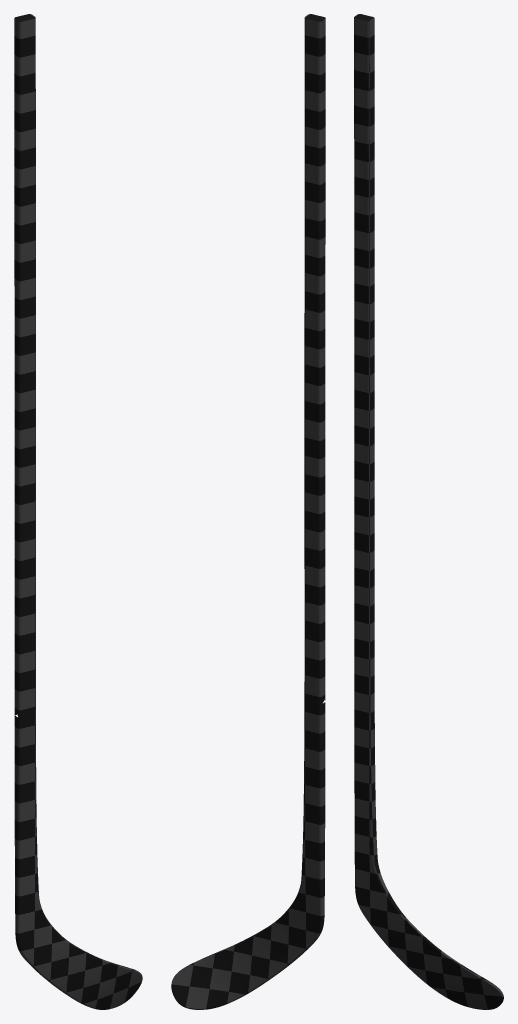
The picture shows the model from 3 angles, left to right: view 1: azimuth 30°, elevation 25°; view 2: azimuth 150°, elevation 25°; view 3: azimuth 330°, elevation 25°; orthographic projection. The views are drawn at different scales.
Parts seen in each view (by area): view 1: geometry_0; view 2: geometry_0; view 3: geometry_0.
Part boxes in pixels (x1,y1,x2,y2): geometry_0: [14, 14, 142, 1009]; geometry_0: [171, 14, 325, 1009]; geometry_0: [354, 14, 503, 1009].
Size of the model in its own units: 237 by 1650 by 60.38.
1 material, 1 textured.
